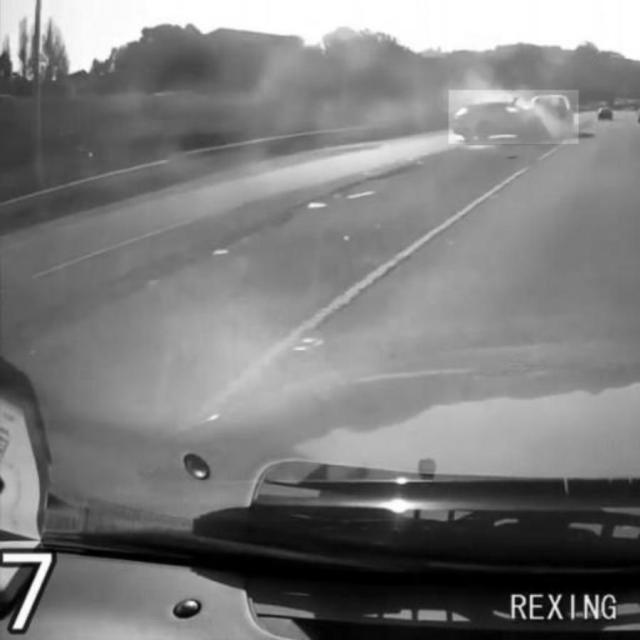accident: (449, 90, 579, 144)
